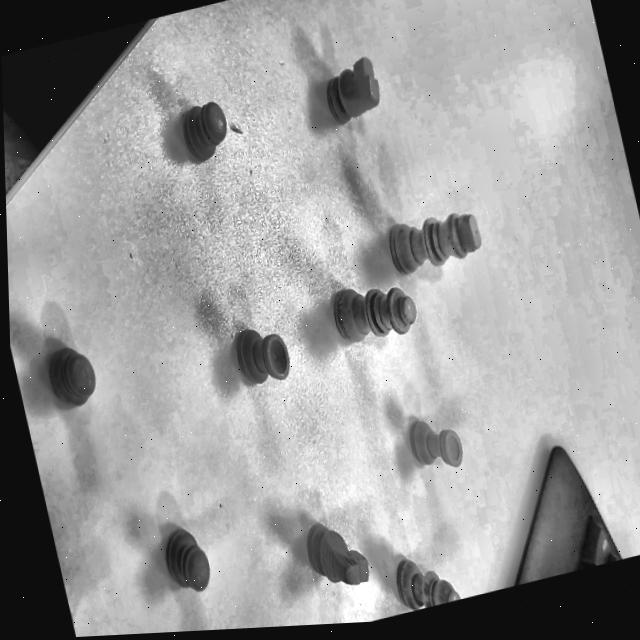white-king: (380, 187, 490, 283)
white-knight: (307, 41, 394, 145), (292, 515, 377, 598)
white-pawn: (136, 511, 228, 627), (154, 87, 252, 182), (32, 334, 108, 436)
white-queen: (313, 279, 420, 358)
white-rook: (207, 302, 312, 441), (393, 413, 474, 496)
